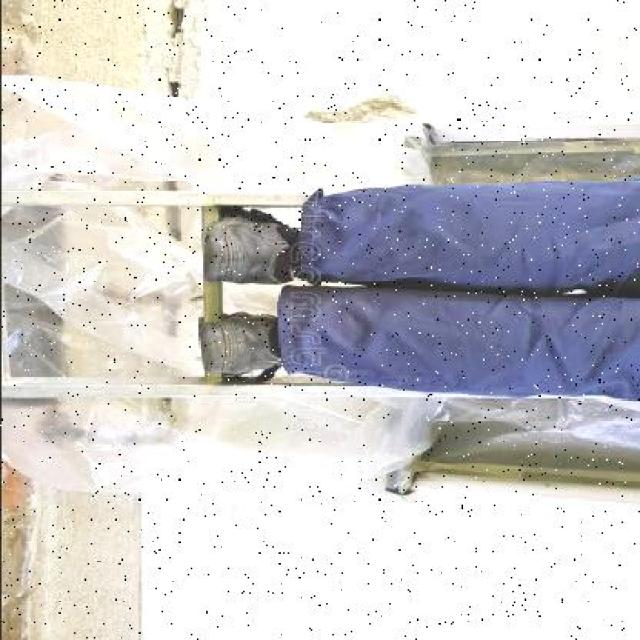shoes: (199, 206, 290, 288), (201, 307, 279, 378)
